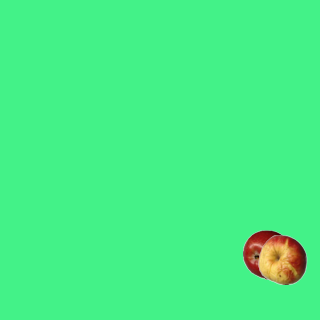Apple Braeburn: (242, 229, 292, 279)
Apple Red Yellow 1: (257, 234, 307, 284)
